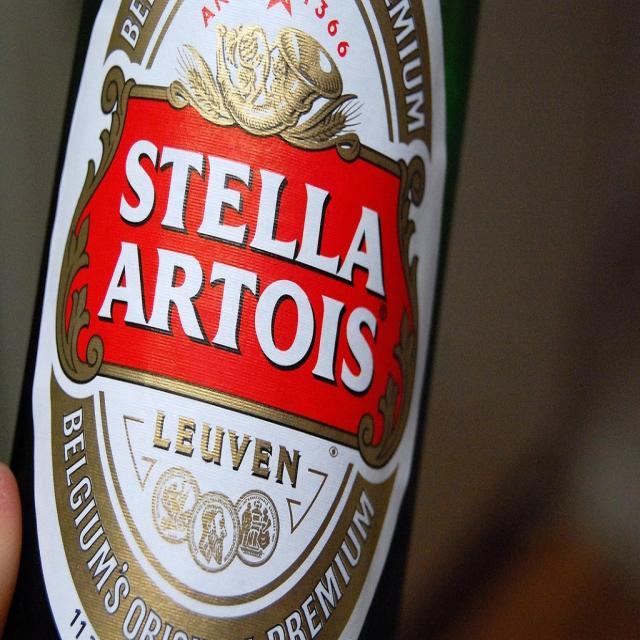stellaartois: (48, 2, 431, 640)
